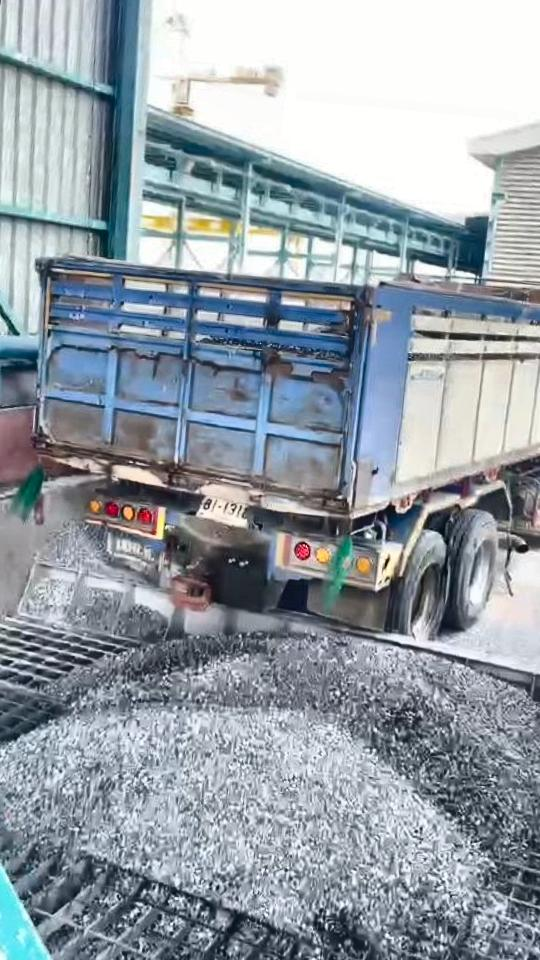gravel: (0, 635, 540, 946), (17, 523, 171, 643)
